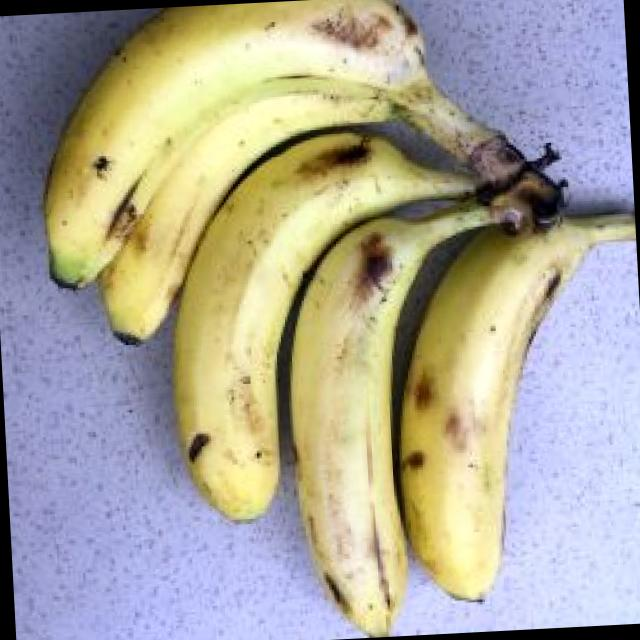banana: (76, 64, 492, 527)
